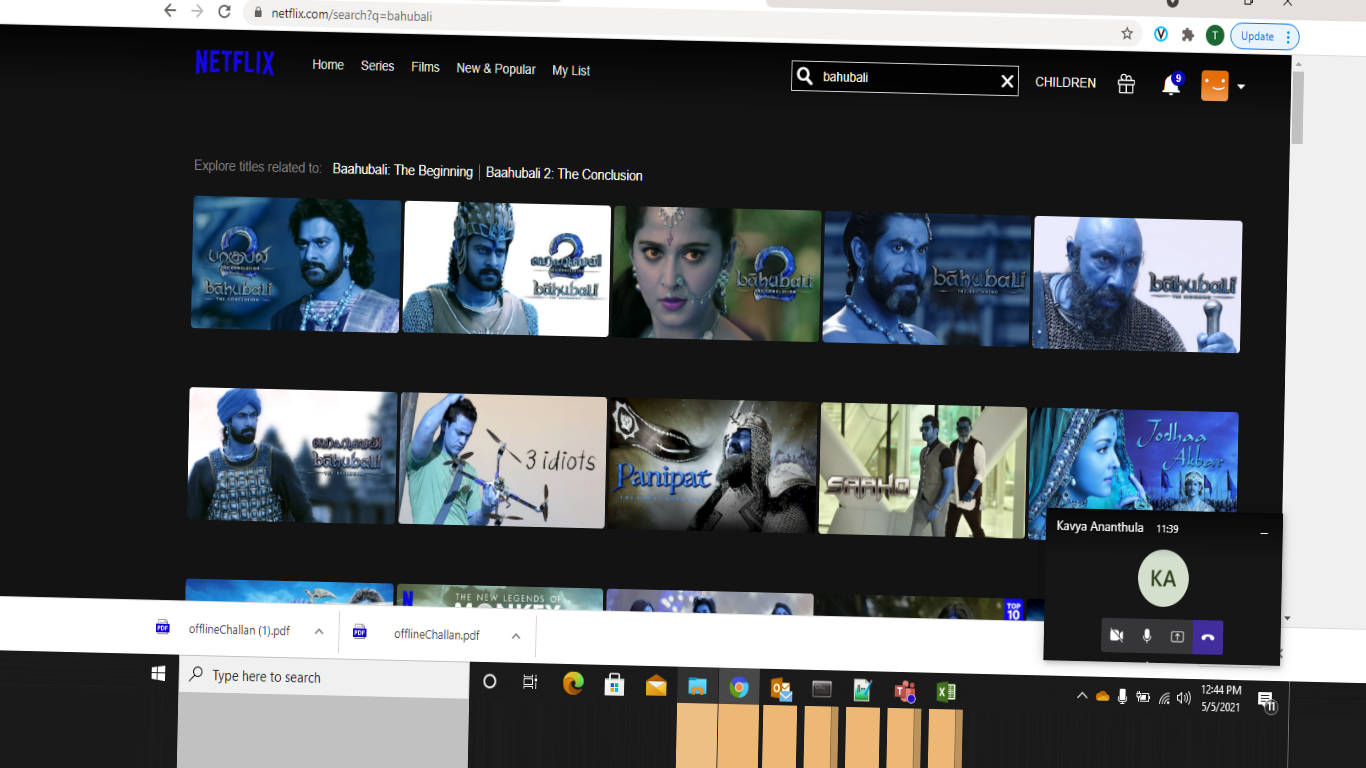mywatchlistbutton: (542, 51, 612, 89)
profileicon: (1190, 59, 1249, 104)
resultsfound: (178, 141, 657, 200)
searchicon: (789, 62, 816, 88)
searchtextbox: (778, 51, 1029, 104)
